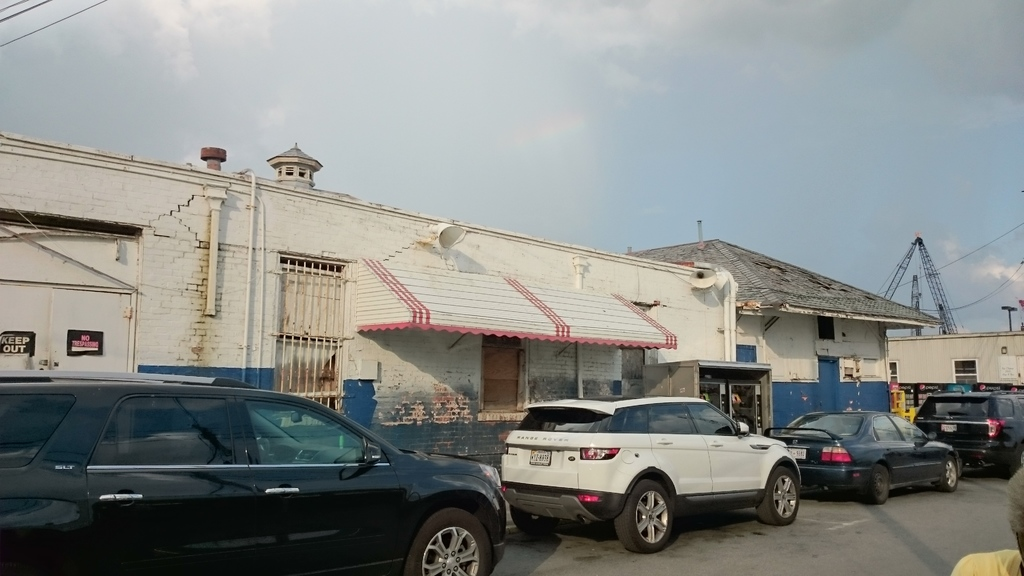Car: (0, 368, 510, 575), (499, 392, 798, 556), (764, 408, 961, 499), (910, 385, 1023, 475)
